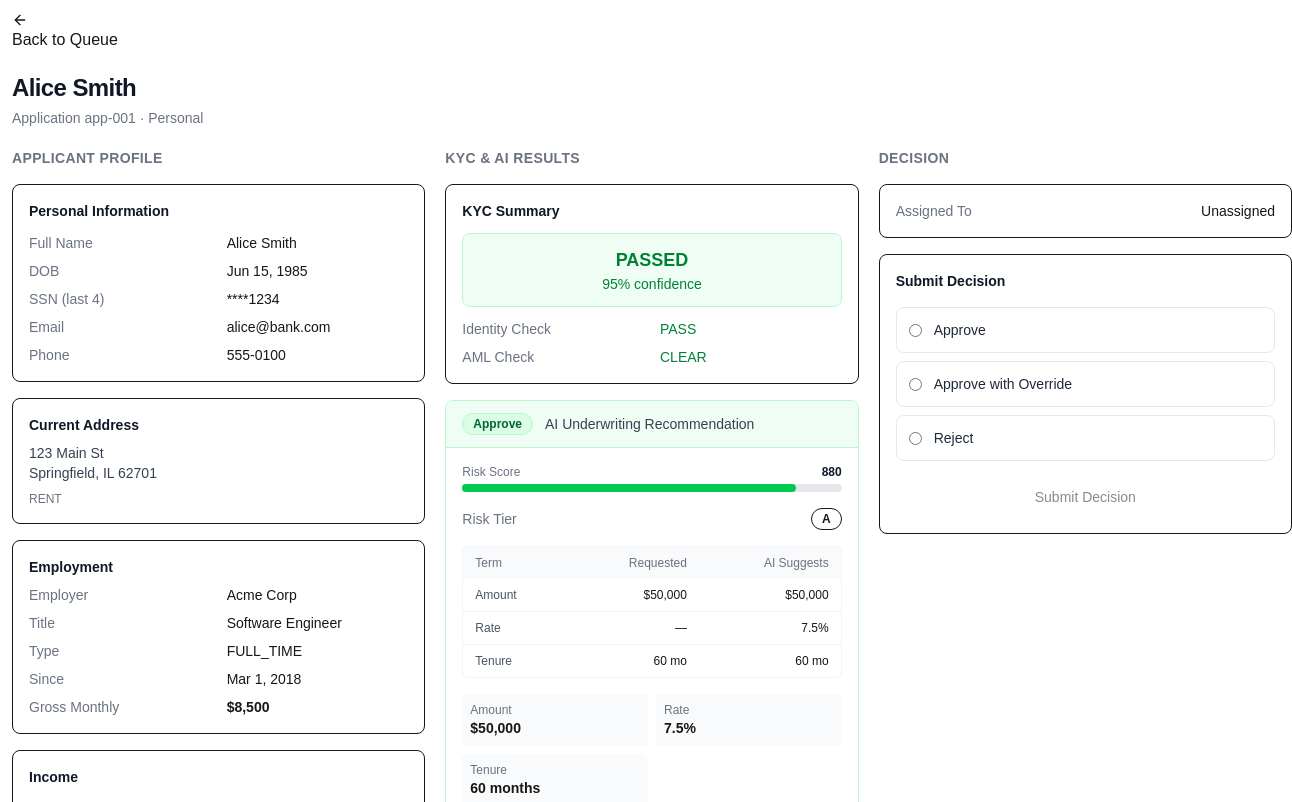
Test: ReviewQueueDetailPage › decision form › shows textarea when REJECT is selected
Step 1. Click the radio button labelled "Reject" → (915, 438), box [909, 432, 922, 444]
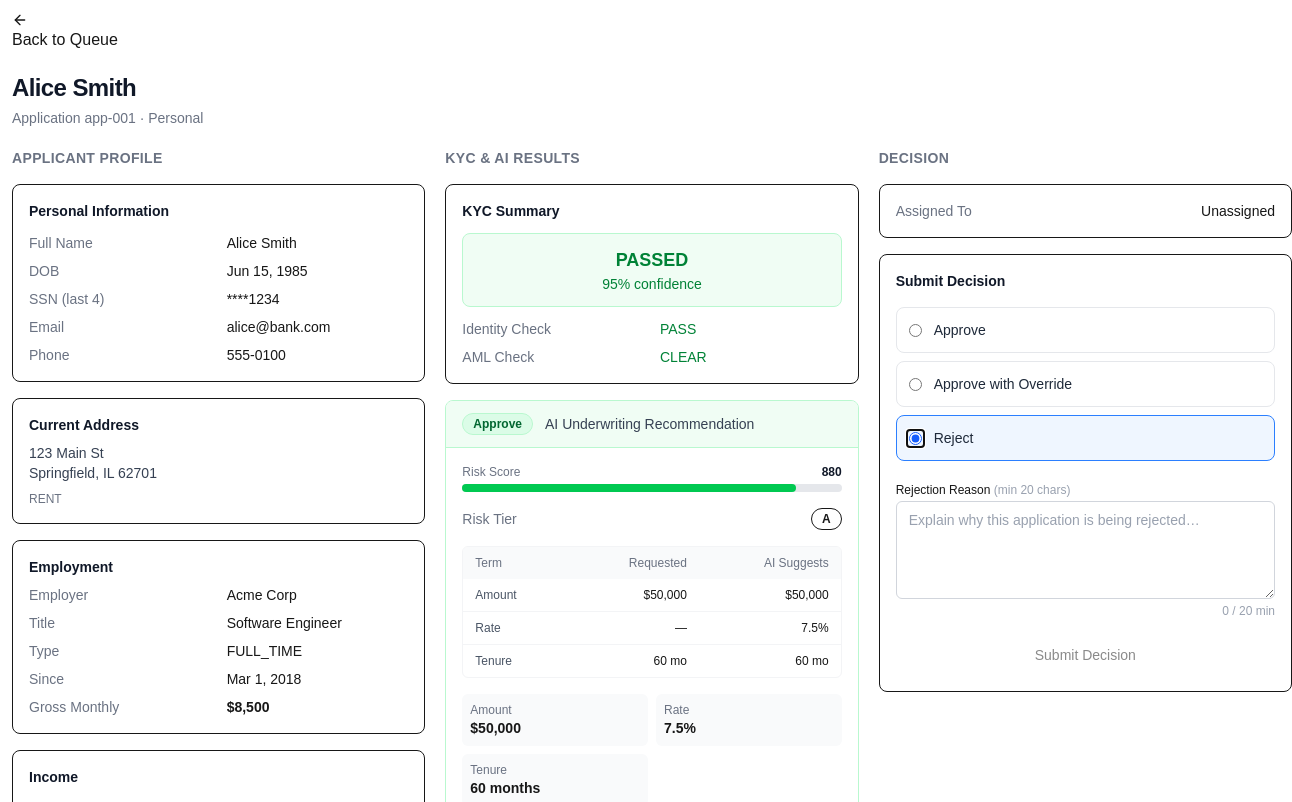
Result: the text box labelled "Rejection Reason (min 20 chars)" is shown at [896, 501, 1275, 599]
